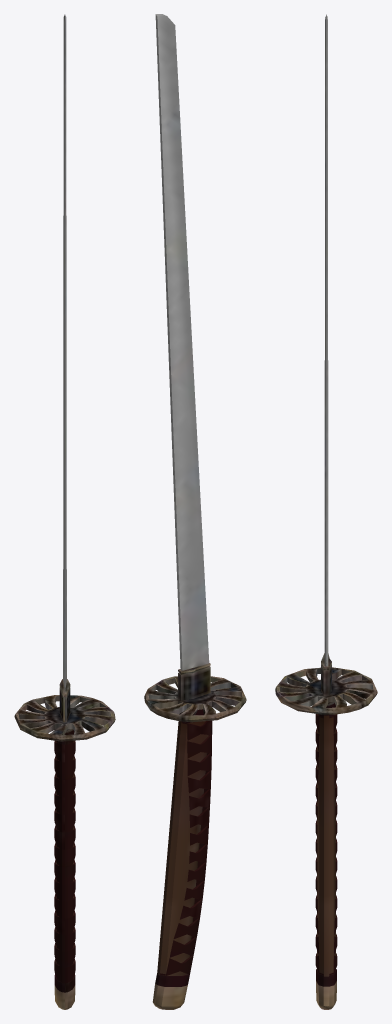
The picture shows the model from 3 angles, left to right: view 1: azimuth 90°, elevation 25°; view 2: azimuth 210°, elevation 25°; view 3: azimuth 270°, elevation 25°; orthographic projection.
Visible parts, largest first — view 1: antique_katana_01; view 2: antique_katana_01; view 3: antique_katana_01.
Part boxes in pixels (x1,y1,x2,y2): antique_katana_01: [14, 14, 115, 1009]; antique_katana_01: [144, 14, 246, 1009]; antique_katana_01: [275, 14, 377, 1009].
Size of the model in its own units: 0.0934 by 1 by 0.0934.
Materials: 1 (1 with a texture image).
